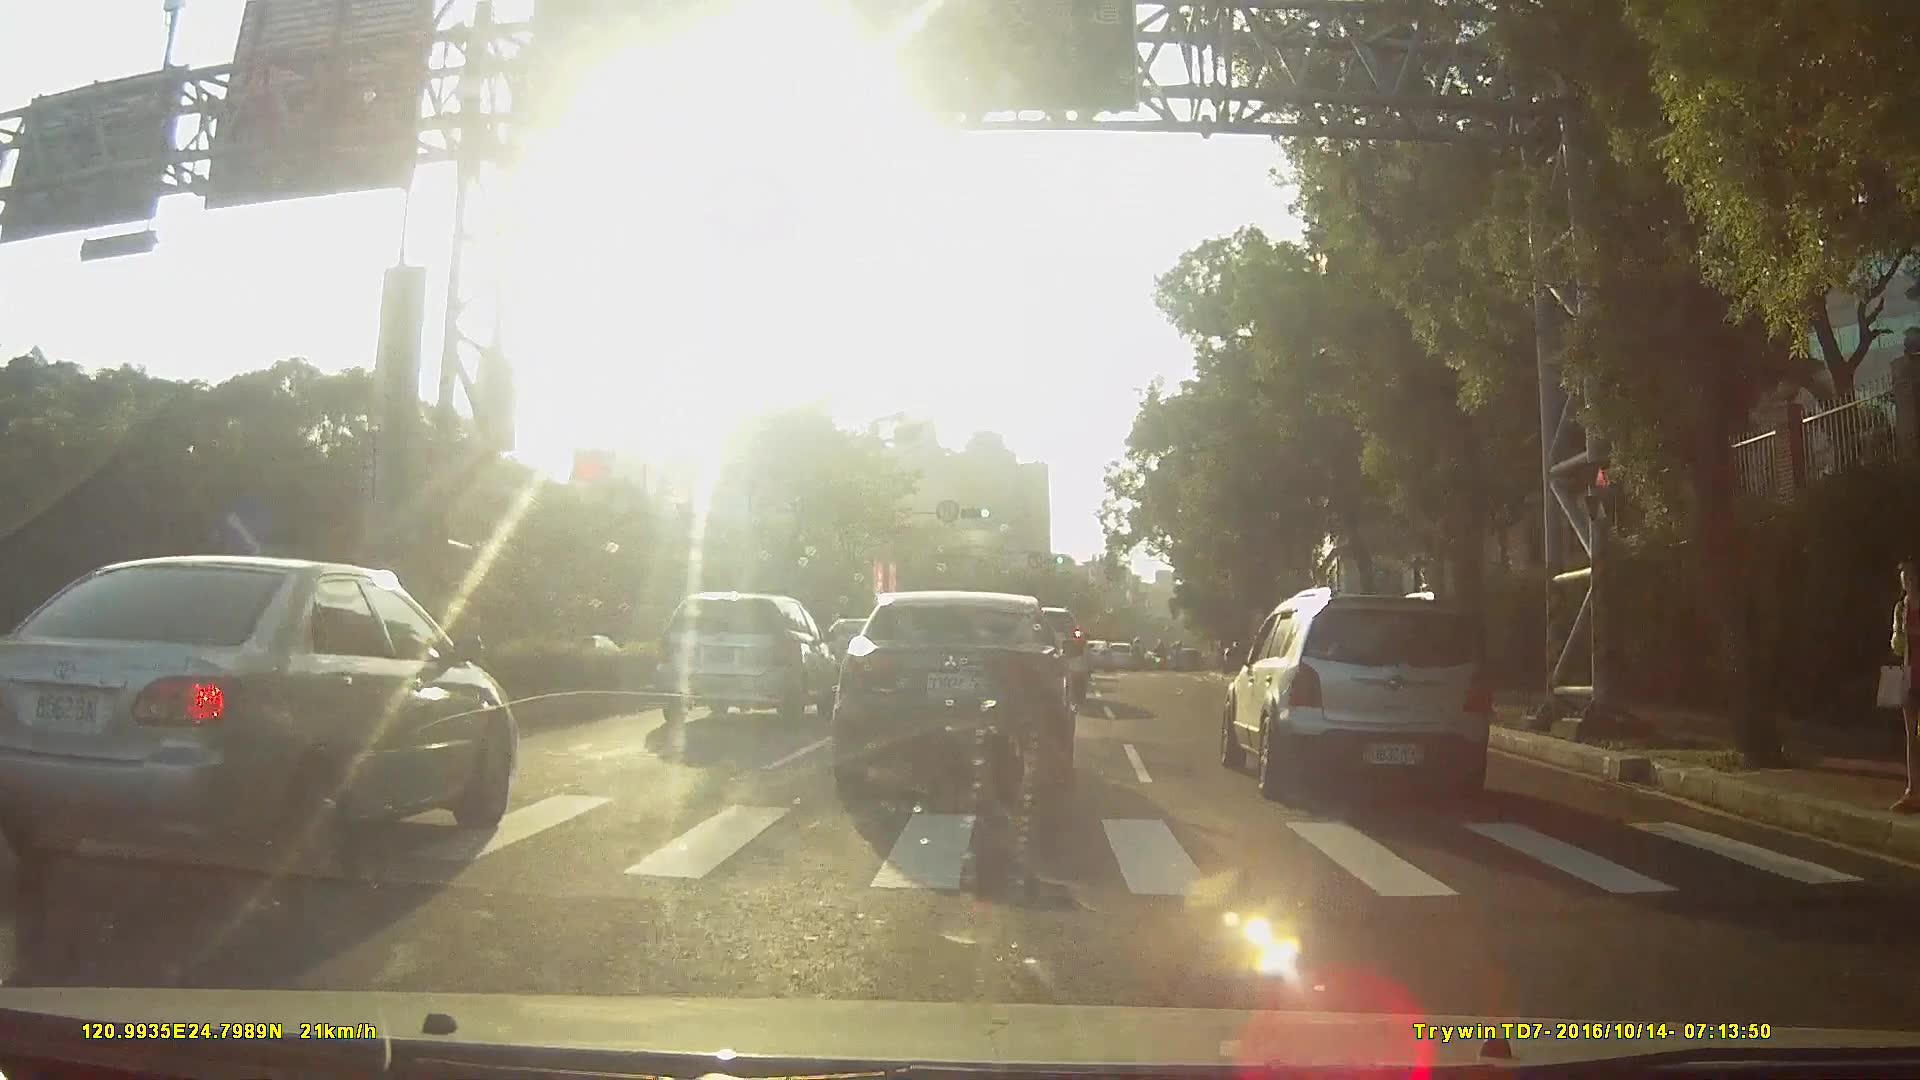pedestrian: (1863, 557, 1920, 808)
vehicle: (1, 549, 540, 895), (1206, 586, 1506, 807), (838, 590, 1090, 799), (645, 596, 836, 730), (1074, 641, 1109, 677), (1097, 647, 1133, 678)
